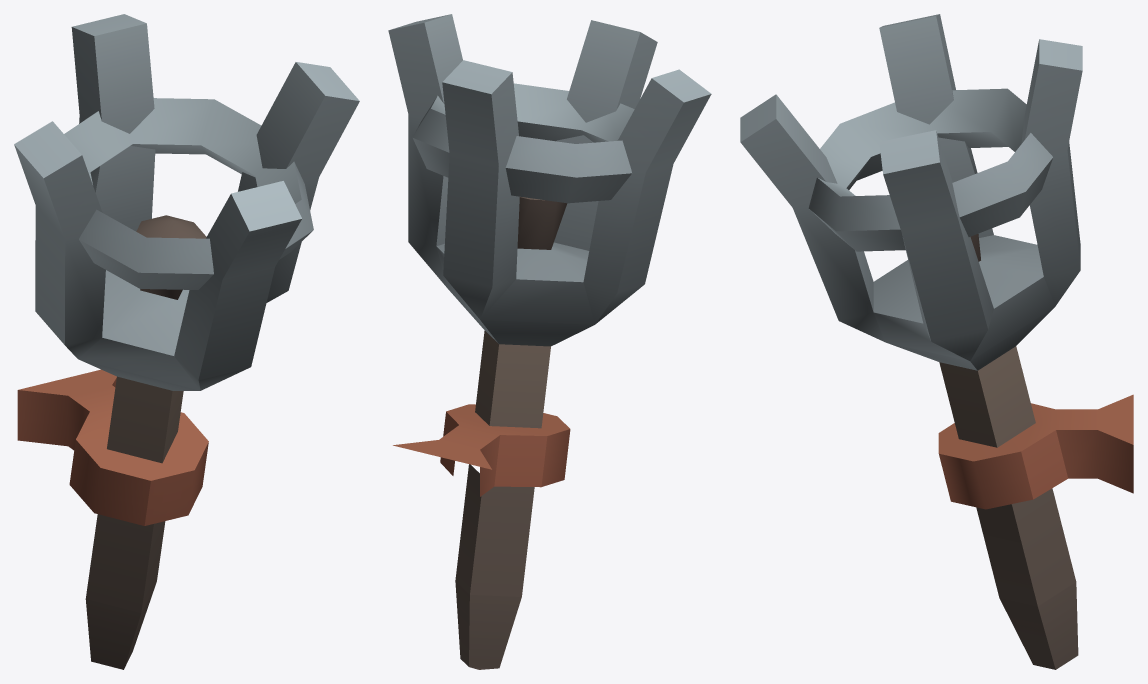
Rendered from torch_mounted.glb.
3 views of the same model, side by side, from view 1: azimuth 30°, elevation 25°; view 2: azimuth 150°, elevation 25°; view 3: azimuth 270°, elevation 25° (orthographic). The views are drawn at different scales.
Visible parts, largest first — view 1: torch_mounted; view 2: torch_mounted; view 3: torch_mounted.
Part boxes in pixels (bbox=[...]): torch_mounted: bbox=[14, 14, 359, 669]; torch_mounted: bbox=[388, 14, 711, 669]; torch_mounted: bbox=[740, 14, 1133, 669].
Bounding box in the file's own units: 0.5503 × 1.06 × 0.6159.
1 material, 1 textured.
